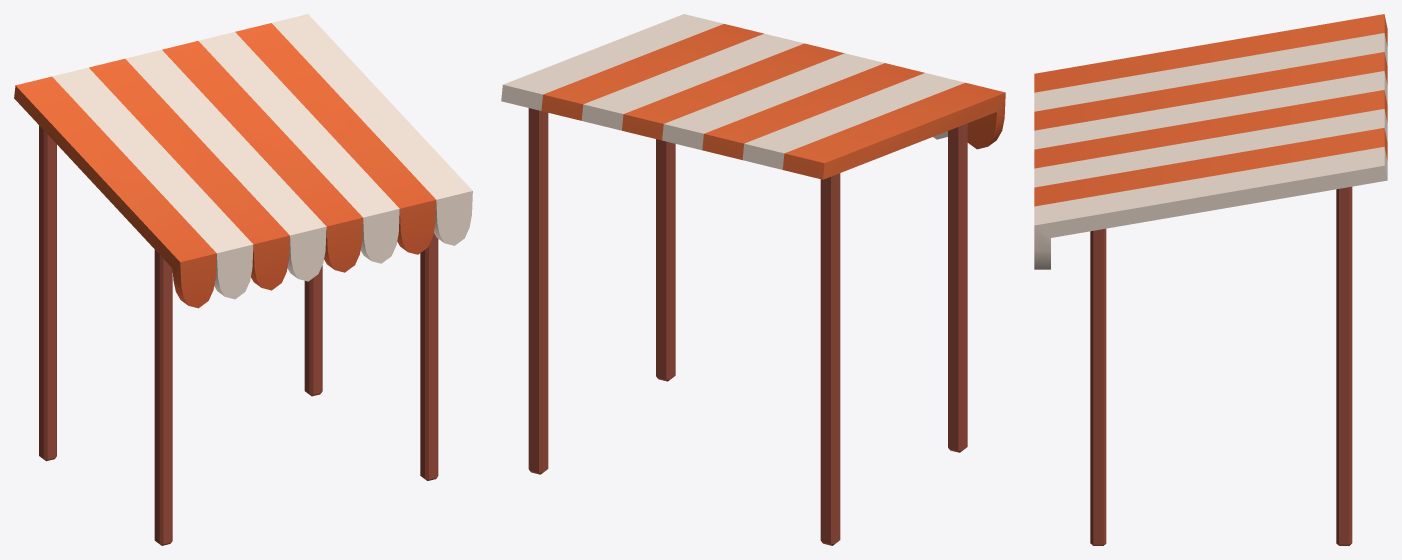
Rendered from Mai che 1.fbx.
3 views of the same model, side by side, from view 1: azimuth 30°, elevation 25°; view 2: azimuth 150°, elevation 25°; view 3: azimuth 270°, elevation 25° (orthographic). The views are drawn at different scales.
Visible parts, largest first — view 1: Mai_che_1; view 2: Mai_che_1; view 3: Mai_che_1.
Boxes of the visible parts, <box> form: Mai_che_1: <box>14,14,472,545</box>; Mai_che_1: <box>501,14,1005,545</box>; Mai_che_1: <box>1034,14,1387,545</box>.
Size of the model in its own units: 512 by 606 by 504.
